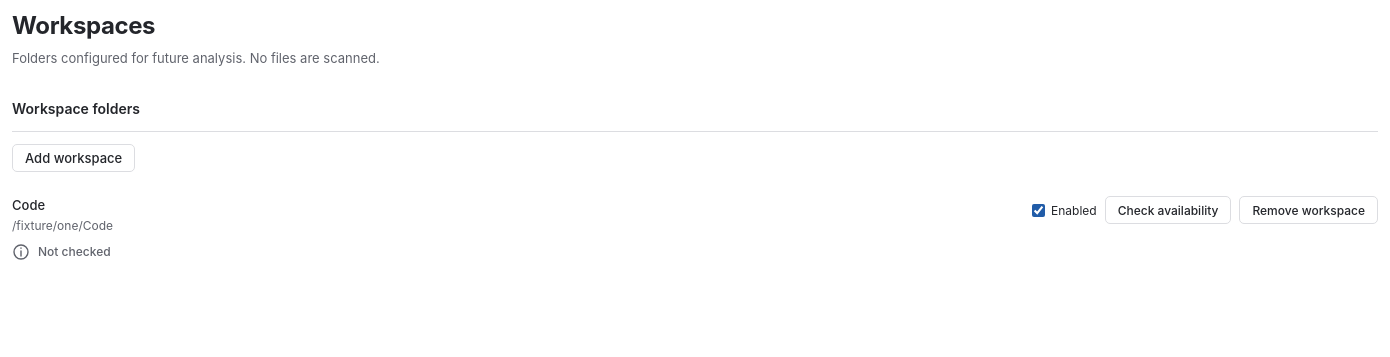
Workspaces view › clears an earlier save announcement before a later rejected save
This screenshot has width=1390, height=357.
Click the checkbox labelled "Enabled".
click(1038, 210)  # box [1032, 204, 1045, 217]
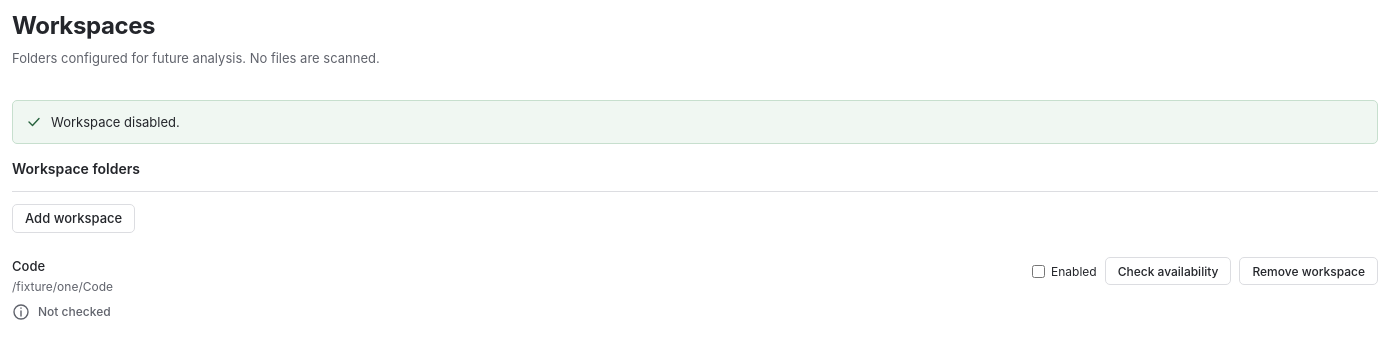
Result: the message reads "Workspace disabled." at [51, 114, 180, 130]
Click the checkbox labelled "Enabled".
click(1038, 271)  # box [1032, 265, 1045, 278]
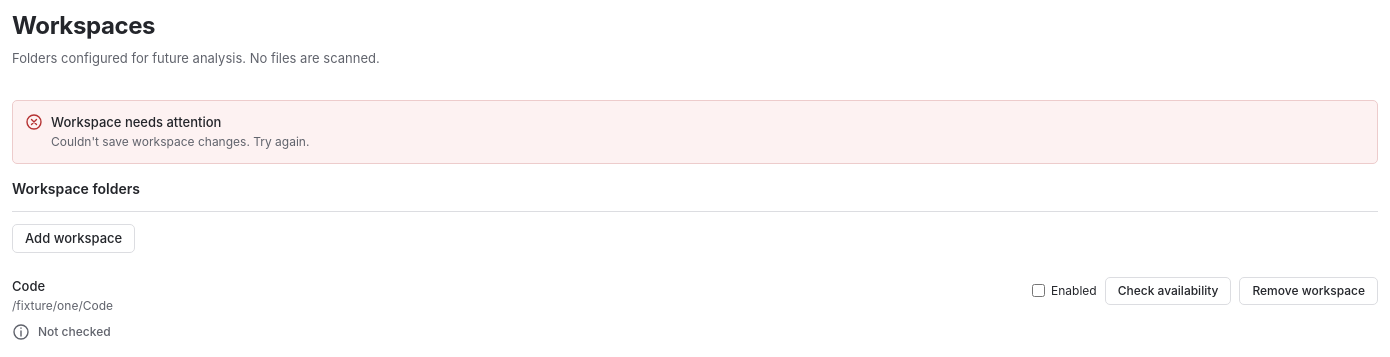
Result: the message shows "Couldn't save workspace changes. Try again." at [51, 134, 309, 150]
